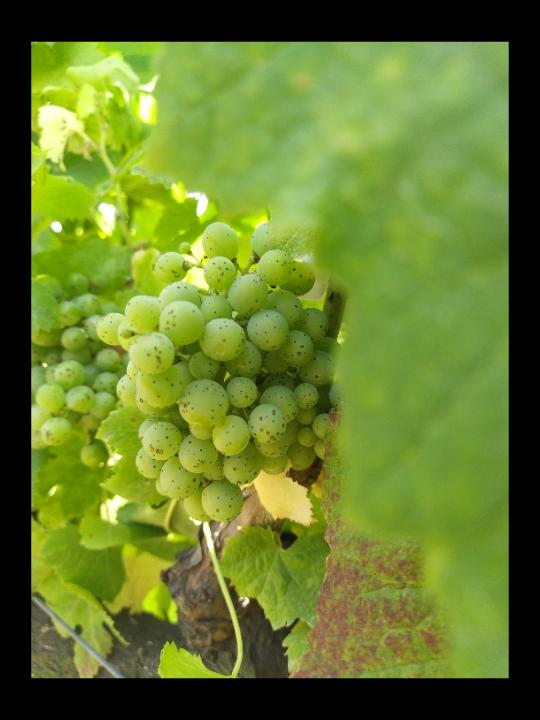grape: (95, 219, 345, 521)
